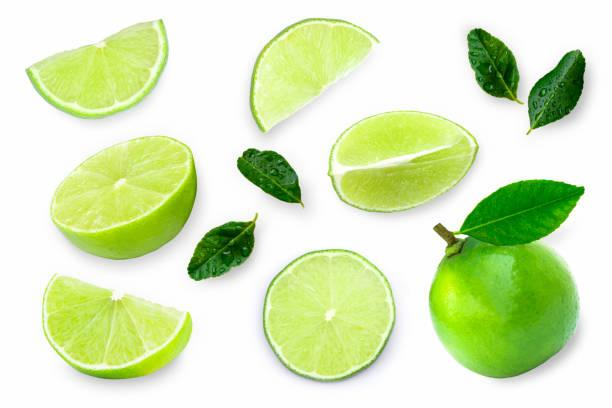lime: (429, 222, 586, 392), (29, 262, 198, 391), (40, 130, 199, 267), (260, 241, 398, 387), (325, 98, 478, 213), (20, 12, 174, 125), (245, 13, 378, 133)
